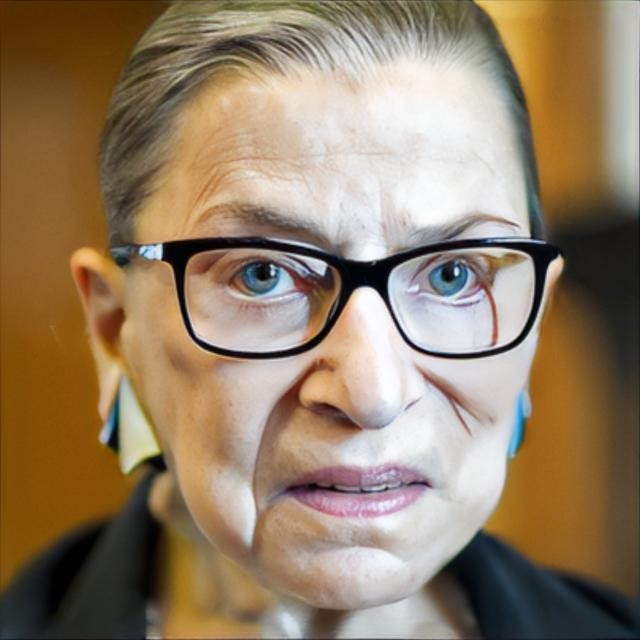disgust: (127, 51, 536, 610)
